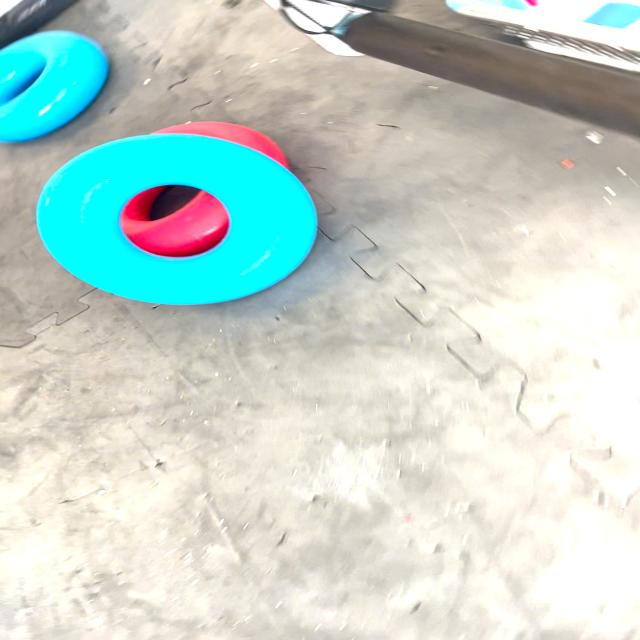Blue-Ring: (38, 134, 318, 305), (0, 31, 109, 142)
